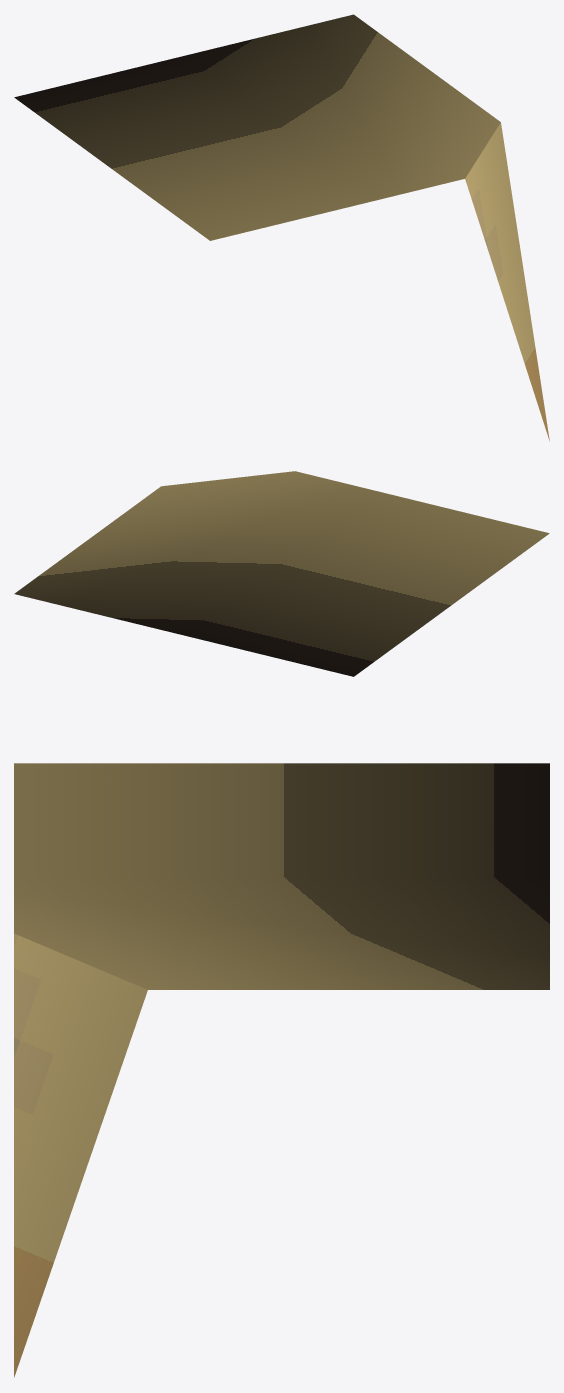
3 views of the same model, one above another, from view 1: azimuth 30°, elevation 25°; view 2: azimuth 150°, elevation 25°; view 3: azimuth 270°, elevation 25° (orthographic). The views are drawn at different scales.
Size of the model in its own units: 1 by 0.7998 by 1.
2 materials, 2 textured.
